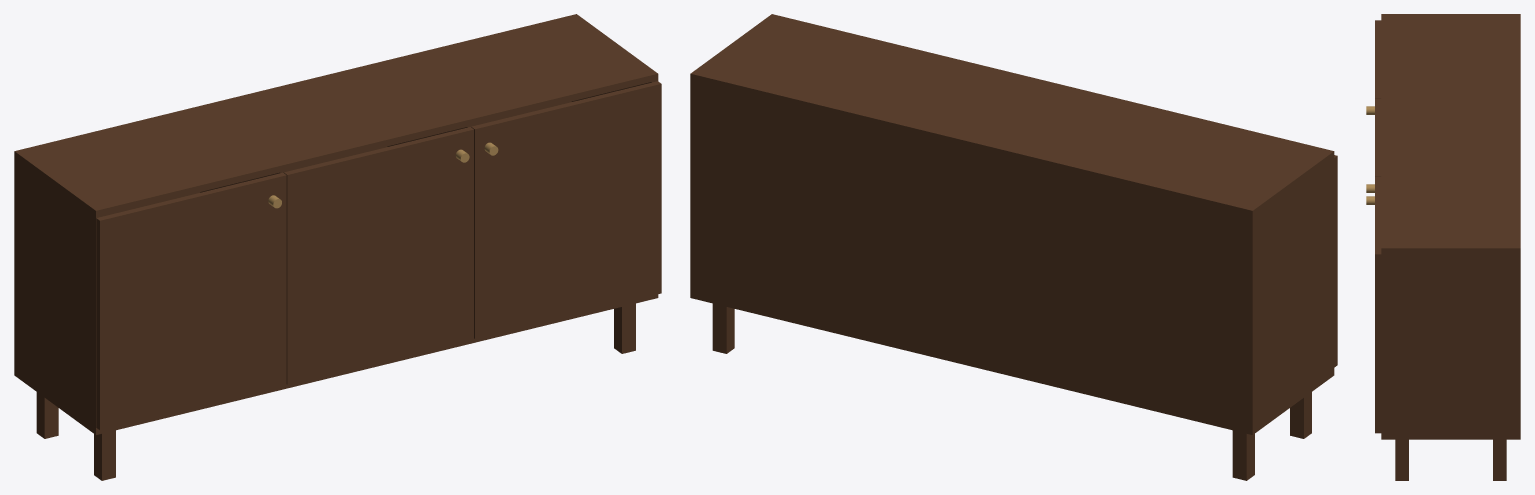
The model's file is sideboard.glb.
3 renders of one model, left to right at view 1: azimuth 30°, elevation 25°; view 2: azimuth 150°, elevation 25°; view 3: azimuth 270°, elevation 25°, orthographic. The views are drawn at different scales.
Parts seen in each view (by area): view 1: sideboard; view 2: sideboard; view 3: sideboard (×2).
Part boxes in pixels (box(x1,y1,x2,y2)): sideboard: box(14, 14, 661, 480); sideboard: box(690, 14, 1337, 480); sideboard (×2): box(1366, 14, 1520, 480).
Bounding box in the file's own units: 1.6 × 0.76 × 0.445.
